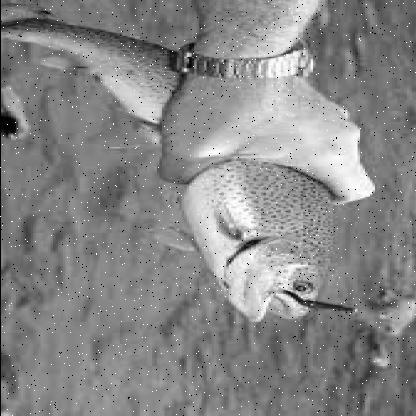fish: (3, 13, 347, 317)
